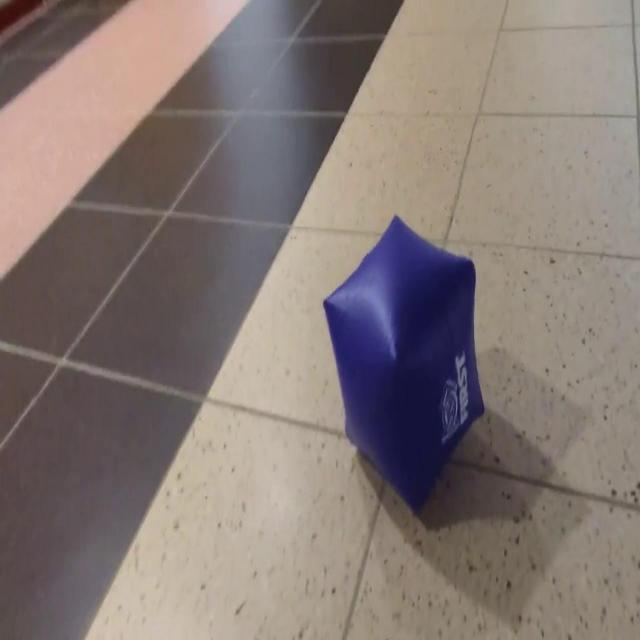frc_cube: (328, 203, 486, 521)
